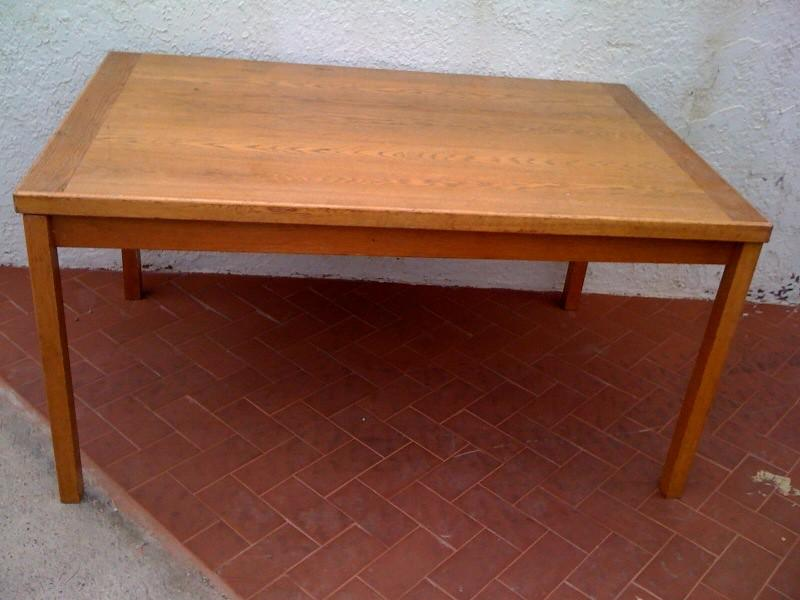table: (14, 49, 774, 506)
